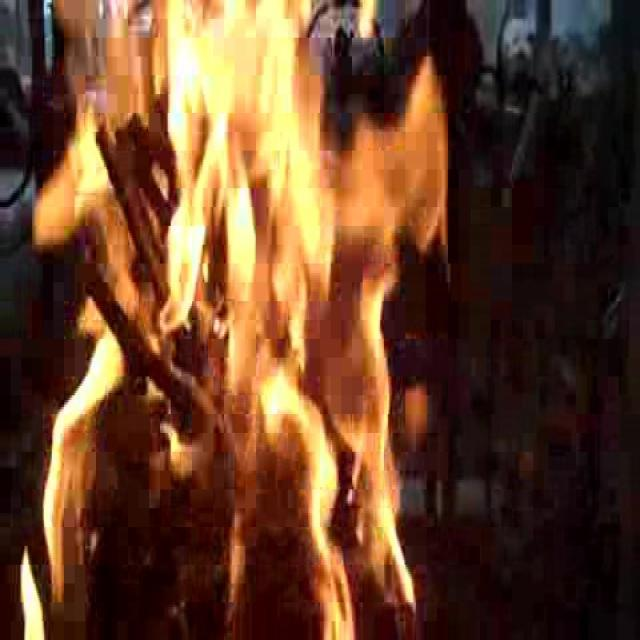Fire: (32, 0, 410, 611)
